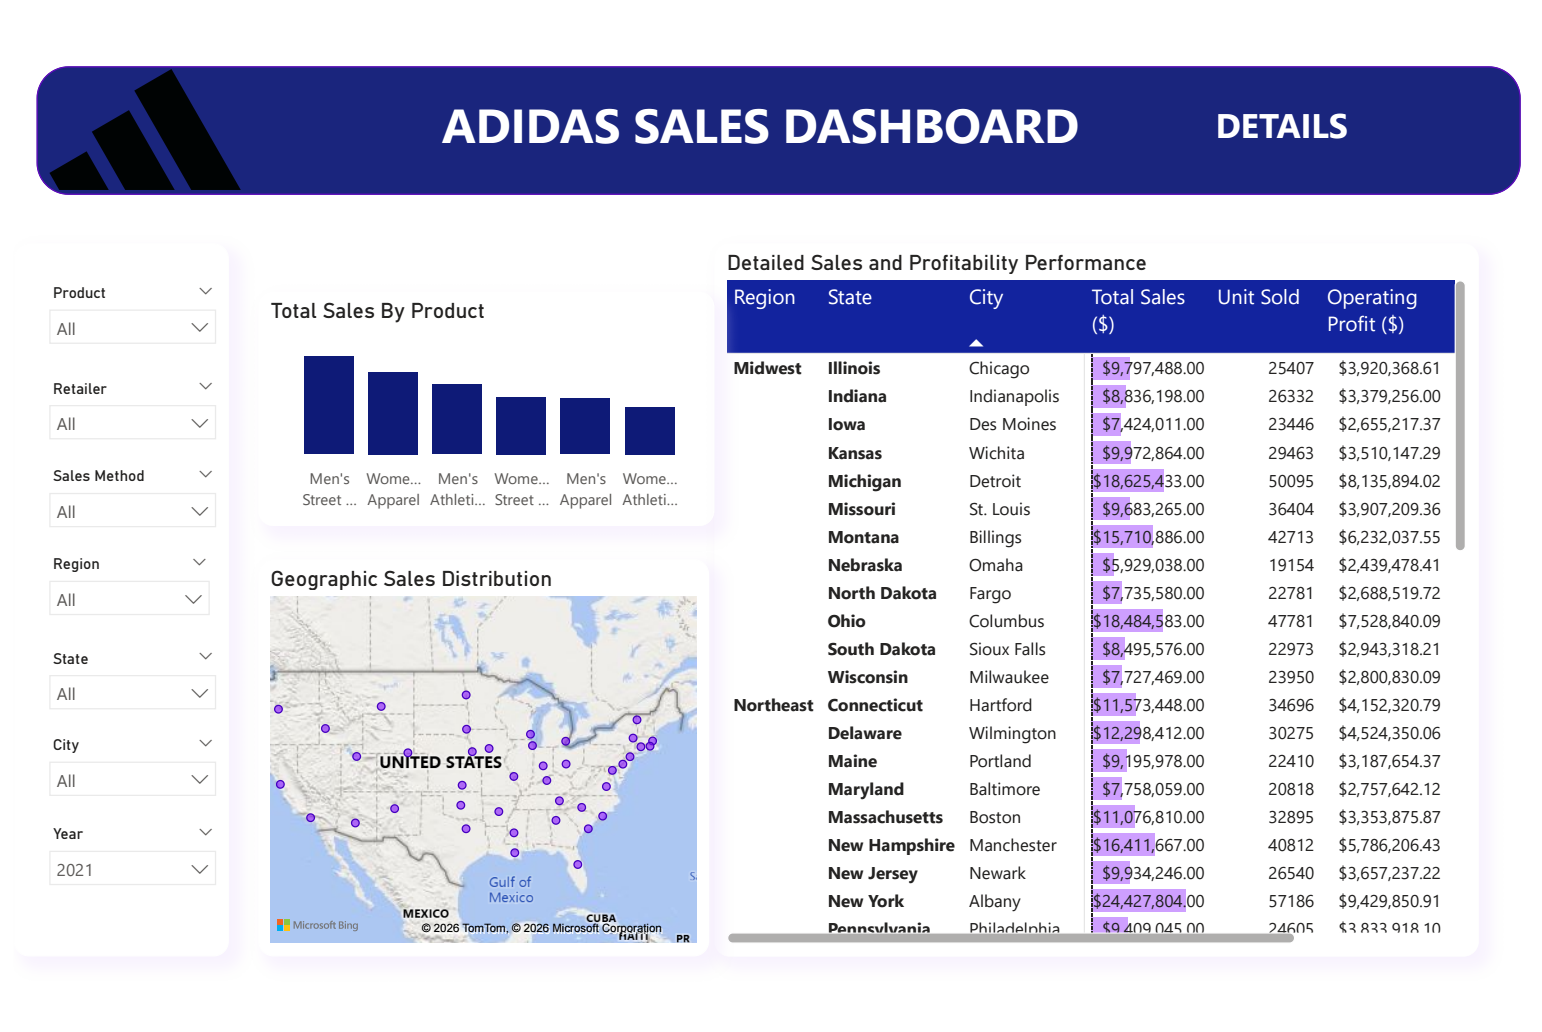

Layout of this report page (visuals, bound fields, positions):
{"tool":"powerbi","page":{"name":"DETAILS","canvas":[1200,800],"ordinal":1},"visuals":[{"type":"shape","box":[0,178,169,560],"z":0},{"type":"slicer","fields":{"Values":["Data Sales Adidas.Product"]},"box":[18,205,151,112],"z":1000},{"type":"slicer","fields":{"Values":["Data Sales Adidas.Retailer"]},"box":[18,279.5,151,107],"z":2000},{"type":"slicer","fields":{"Values":["Data Sales Adidas.Sales Method"]},"box":[18,349,151,106],"z":3000},{"type":"slicer","fields":{"Values":["Data Sales Adidas.Region"]},"box":[18,417.5,146,112],"z":4000},{"type":"slicer","fields":{"Values":["Data Sales Adidas.State"]},"box":[18,492,151,105],"z":5000},{"type":"slicer","fields":{"Values":["Data Sales Adidas.City"]},"box":[18,559.5,151,108],"z":6000},{"type":"shape","box":[17.8,39.4,1165.3,100.5],"z":7000},{"type":"image","box":[28.2,36.6,150.2,103.3],"z":8000},{"type":"textbox","box":[275.1,53.5,622.5,69.5],"z":9000},{"type":"pivotTable","title":"Detailed Sales and Profitability Performance","fields":{"Rows":["Data Sales Adidas.Region","Data Sales Adidas.State","Data Sales Adidas.City"],"Values":["Calculated.Total Sales","Calculated.Unit Sold","Calculated Field.Operating Profit","Calculated.Operating Margin"]},"box":[550,178,600,560],"z":10000},{"type":"columnChart","title":"Total Sales By Product","fields":{"Y":["Calculated.Total Sales"],"Category":["Data Sales Adidas.Product"]},"box":[192.5,216,357.7,184],"z":11000},{"type":"map","title":"Geographic Sales Distribution","fields":{"Category":["Data Sales Adidas.City"]},"box":[192.5,426.3,354,311.7],"z":12000},{"type":"slicer","fields":{"Values":["Data Sales Adidas.Invoice Date.Variation.Date Hierarchy.Year"]},"box":[18,630,151,91],"z":12500},{"type":"textbox","box":[862.9,61,264.8,54.5],"z":13000}]}

Visuals, with their boxes in screenshot pixels (x1, y1, x2, y2), scaled from the page's 1200x800 canvas onto the 1542x1032 screenshot:
shape: x1=0 y1=230 x2=217 y2=952
slicer - Data Sales Adidas.Product: x1=23 y1=264 x2=217 y2=409
slicer - Data Sales Adidas.Retailer: x1=23 y1=361 x2=217 y2=499
slicer - Data Sales Adidas.Sales Method: x1=23 y1=450 x2=217 y2=587
slicer - Data Sales Adidas.Region: x1=23 y1=539 x2=211 y2=683
slicer - Data Sales Adidas.State: x1=23 y1=635 x2=217 y2=770
slicer - Data Sales Adidas.City: x1=23 y1=722 x2=217 y2=861
shape: x1=23 y1=51 x2=1520 y2=180
image: x1=36 y1=47 x2=229 y2=180
textbox: x1=354 y1=69 x2=1153 y2=159
"Detailed Sales and Profitability Performance" pivotTable: x1=707 y1=230 x2=1478 y2=952
"Total Sales By Product" columnChart: x1=247 y1=279 x2=707 y2=516
"Geographic Sales Distribution" map: x1=247 y1=550 x2=702 y2=952
slicer - Data Sales Adidas.Invoice Date.Variation.Date Hierarchy.Year: x1=23 y1=813 x2=217 y2=930
textbox: x1=1109 y1=79 x2=1449 y2=149
